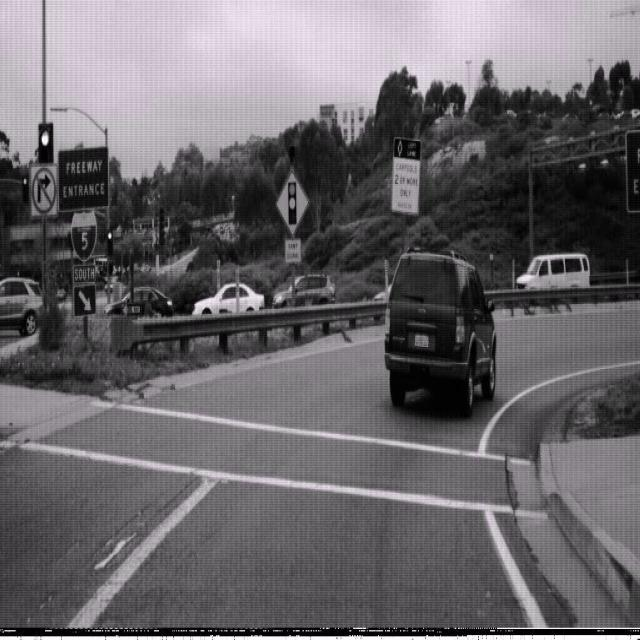noRightTurn: (29, 164, 54, 211)
